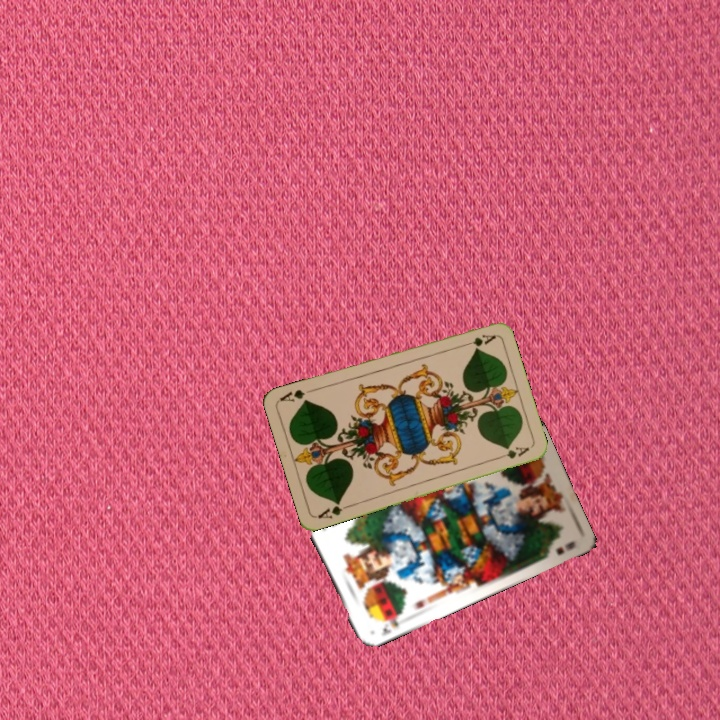GA: (313, 497, 353, 521), (458, 330, 498, 349)
SK: (377, 609, 405, 638)
